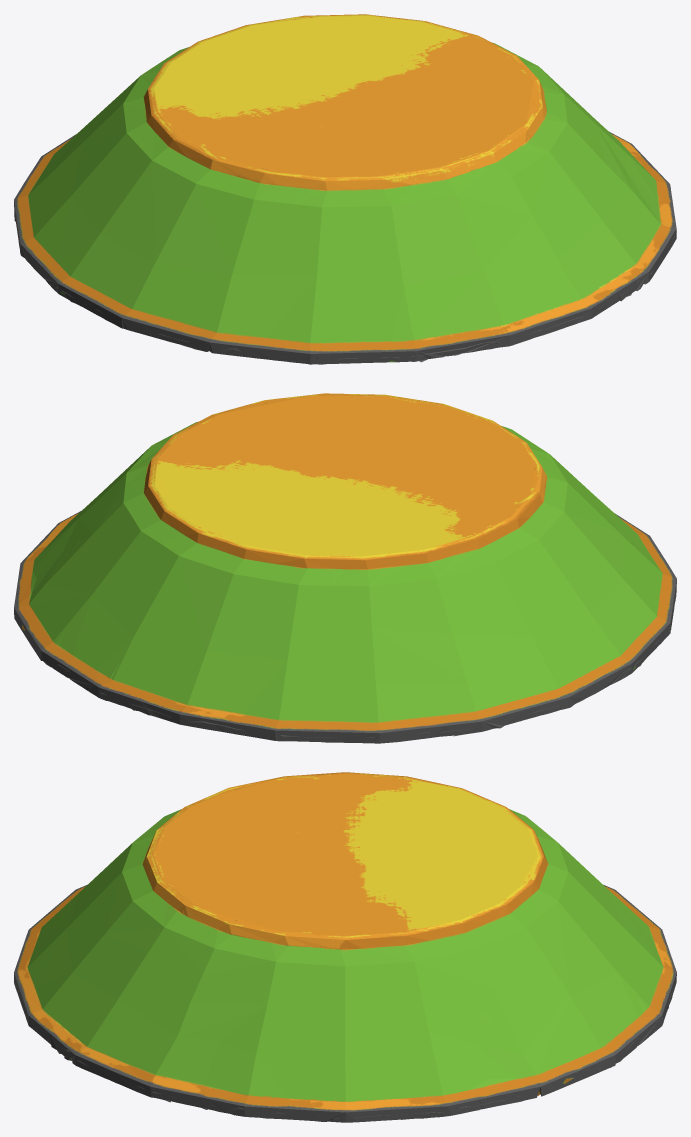
Rendered from hill-crest.glb.
3 renders of one model, top to bottom at view 1: azimuth 30°, elevation 25°; view 2: azimuth 150°, elevation 25°; view 3: azimuth 270°, elevation 25°, orthographic.
Visible parts, largest first — view 1: world; view 2: world; view 3: world.
Boxes of the visible parts, left/top/right/bottom form: world: left=14, top=14, right=676, bottom=364; world: left=14, top=393, right=676, bottom=743; world: left=14, top=772, right=676, bottom=1122.
Bounding box in the file's own units: 3 × 0.6459 × 3.
Materials: 1 (1 with a texture image).
